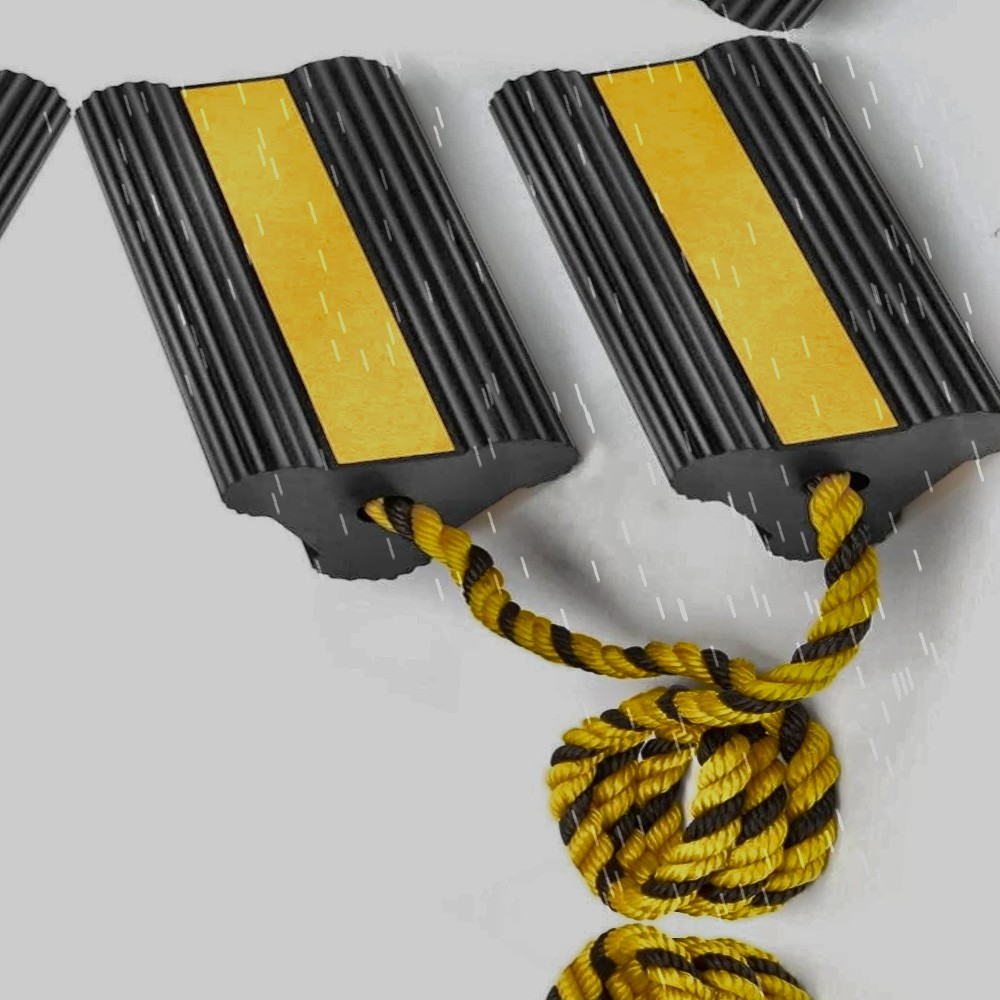chock: (40, 33, 611, 604), (447, 11, 1000, 581)
